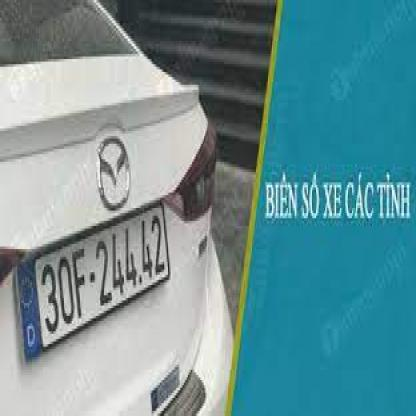biensoxe: (14, 205, 170, 364)
